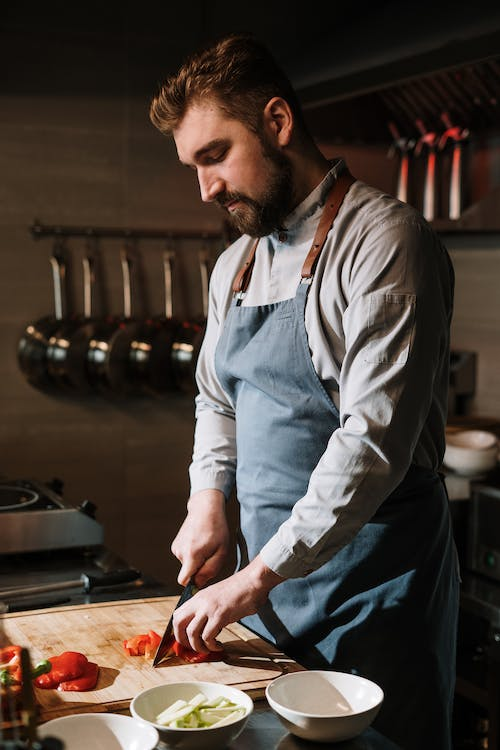knife: (149, 572, 203, 669)
